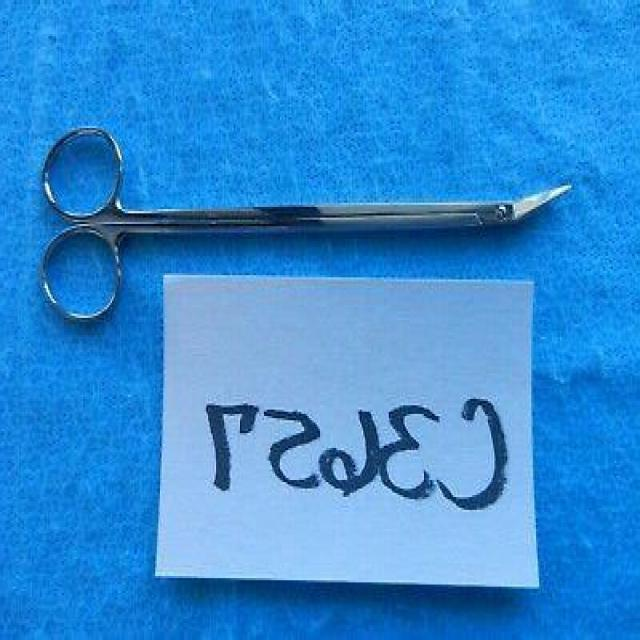Potts: (32, 126, 576, 342)
